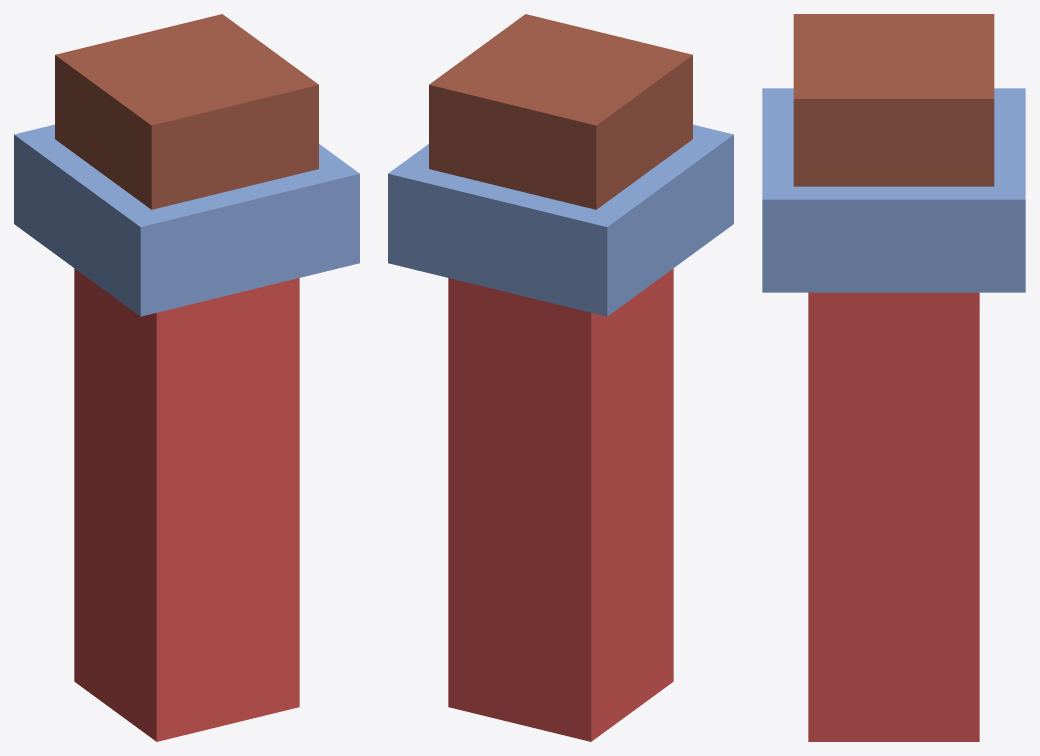
Rendered from SmallHealthPotion.fbx.
3 views of the same model, side by side, from view 1: azimuth 30°, elevation 25°; view 2: azimuth 150°, elevation 25°; view 3: azimuth 270°, elevation 25° (orthographic). The views are drawn at different scales.
Parts seen in each view (by area): view 1: Cube, Cube.002, Cube.001; view 2: Cube, Cube.002, Cube.001; view 3: Cube, Cube.002, Cube.001.
Boxes of the visible parts, x1,y1,x2,y2 form: Cube: (74, 268, 299, 741); Cube.002: (55, 14, 318, 209); Cube.001: (14, 124, 359, 316); Cube: (448, 268, 673, 741); Cube.002: (429, 14, 692, 209); Cube.001: (388, 124, 733, 316); Cube: (808, 292, 979, 741); Cube.002: (793, 14, 994, 186); Cube.001: (762, 88, 1025, 292).
Bounding box in the file's own units: 18.48 × 50.28 × 18.48.
